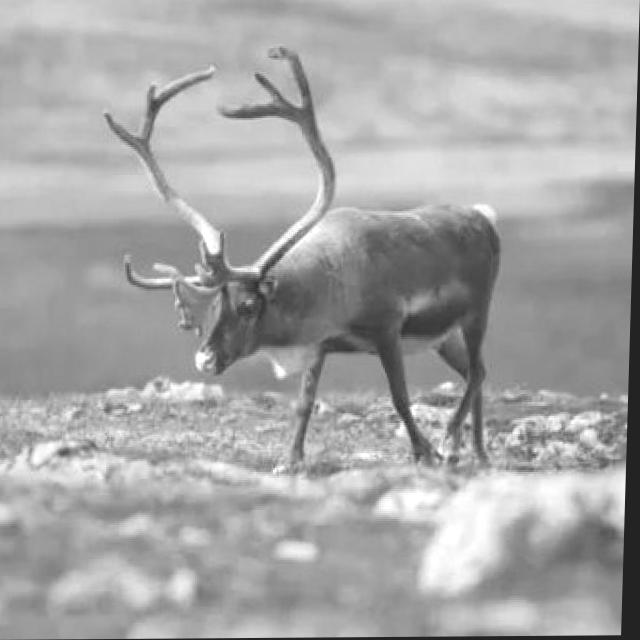Deer: (123, 50, 553, 480)
